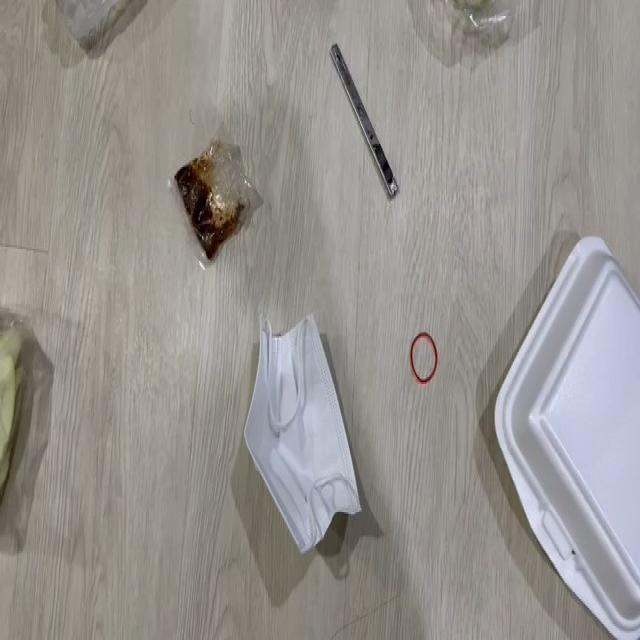Anorganik: (483, 218, 640, 630), (311, 39, 410, 203), (50, 0, 152, 69), (402, 326, 442, 386)
B3: (242, 308, 367, 566), (166, 111, 267, 275), (0, 314, 39, 492)
